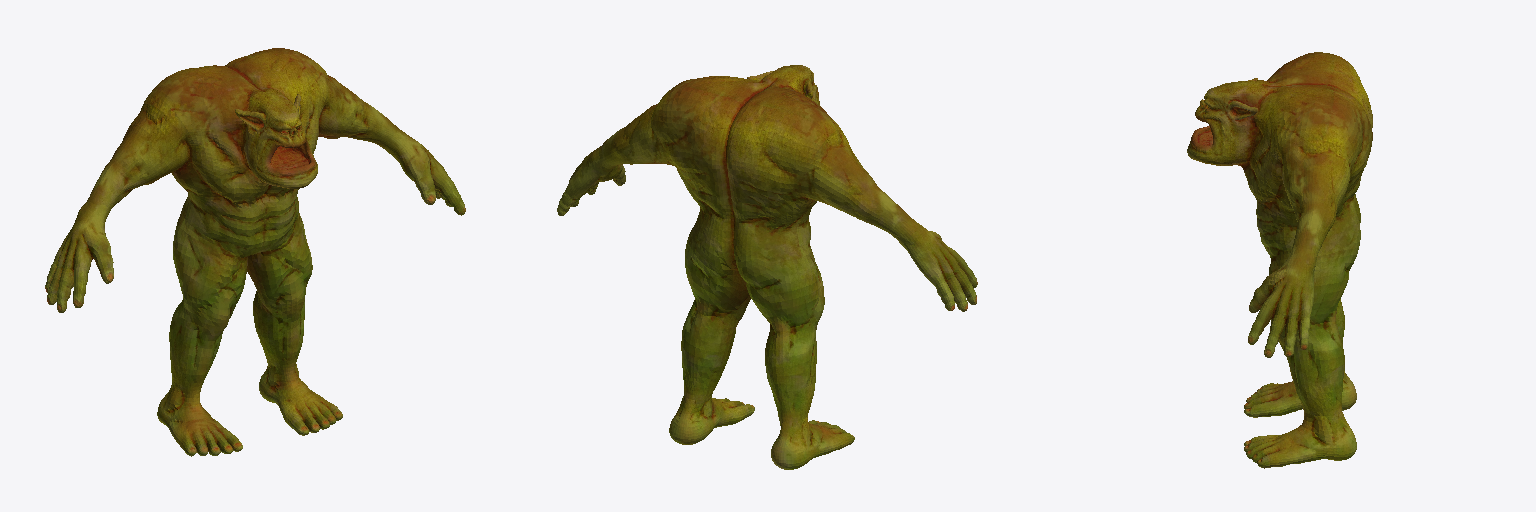
3 views of the same model, side by side, from view 1: azimuth 30°, elevation 25°; view 2: azimuth 150°, elevation 25°; view 3: azimuth 270°, elevation 25° (orthographic).
Bounding box in the file's own units: 282 × 236 × 111.
Materials: 1 (1 with a texture image).